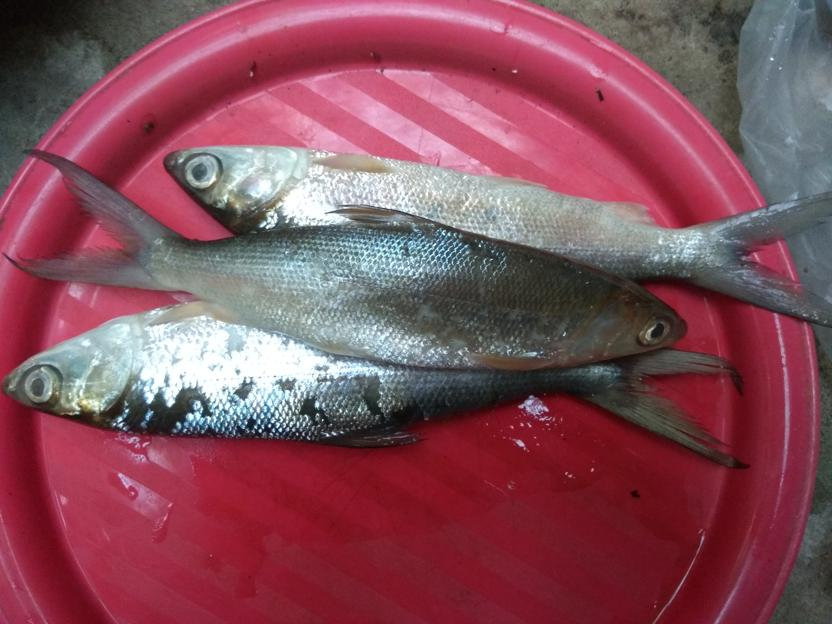Fish head: (2, 312, 146, 426), (163, 143, 309, 233), (580, 276, 689, 363)
Fish tail: (3, 147, 182, 292), (589, 345, 755, 472), (694, 181, 829, 329)
